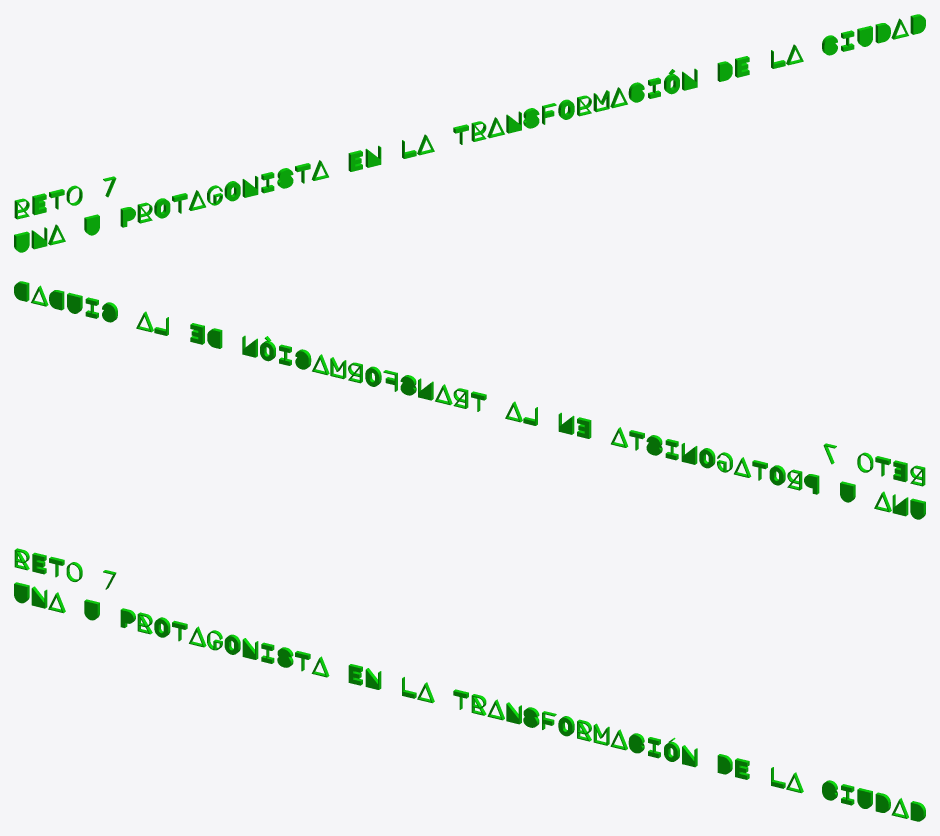
File: RETO7.fbx
3 views of the same model, one above another, from view 1: azimuth 30°, elevation 25°; view 2: azimuth 150°, elevation 25°; view 3: azimuth 330°, elevation 25° (orthographic).
Visible parts, largest first — view 1: typeMesh7; view 2: typeMesh7; view 3: typeMesh7.
Part boxes in pixels (left/top/right/bottom): typeMesh7: left=14, top=14, right=925, bottom=252; typeMesh7: left=14, top=281, right=925, bottom=519; typeMesh7: left=14, top=548, right=925, bottom=821.
Bounding box in the file's own units: 559 × 30.66 × 2.5.
